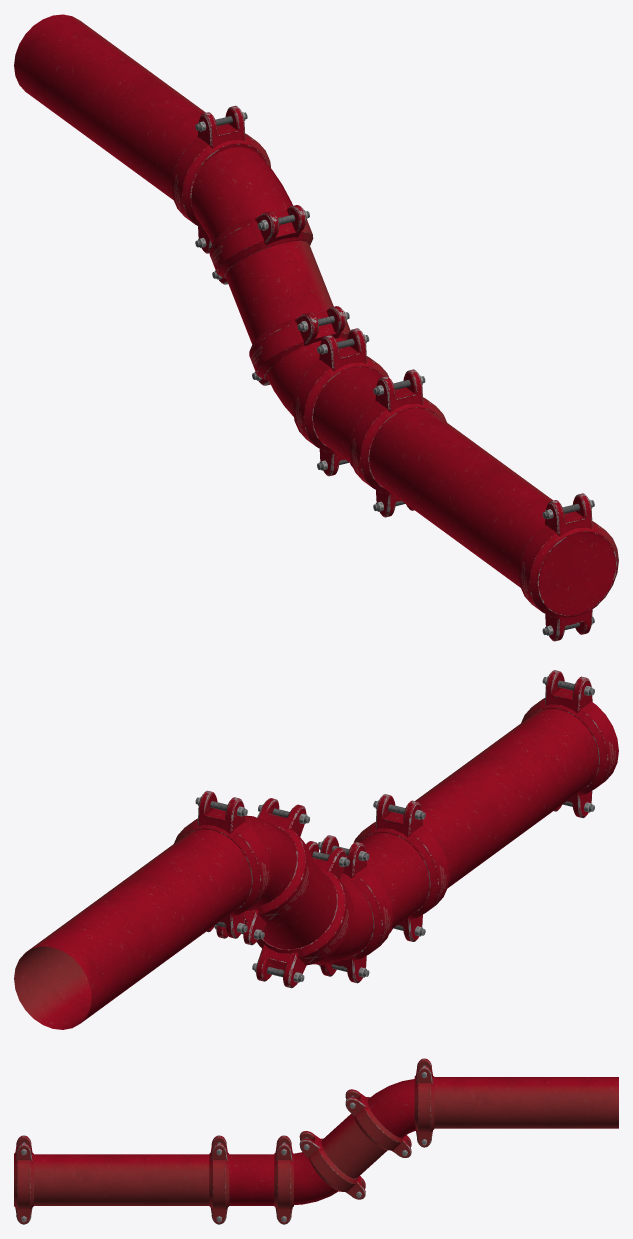
The model's file is SM_Pipe_Module_01d.fbx.
3 renders of one model, top to bottom at view 1: azimuth 30°, elevation 25°; view 2: azimuth 150°, elevation 25°; view 3: azimuth 270°, elevation 25°, orthographic. The views are drawn at different scales.
Visible parts, largest first — view 1: SM_Pipe_Module_01d; view 2: SM_Pipe_Module_01d; view 3: SM_Pipe_Module_01d.
Boxes of the visible parts, x1,y1,x2,y2 form: SM_Pipe_Module_01d: (14, 14, 618, 641); SM_Pipe_Module_01d: (14, 670, 618, 1029); SM_Pipe_Module_01d: (14, 1058, 618, 1224).
Size of the model in its own units: 18.43 by 187 by 53.52.
Materials: 1 (1 with a texture image).
